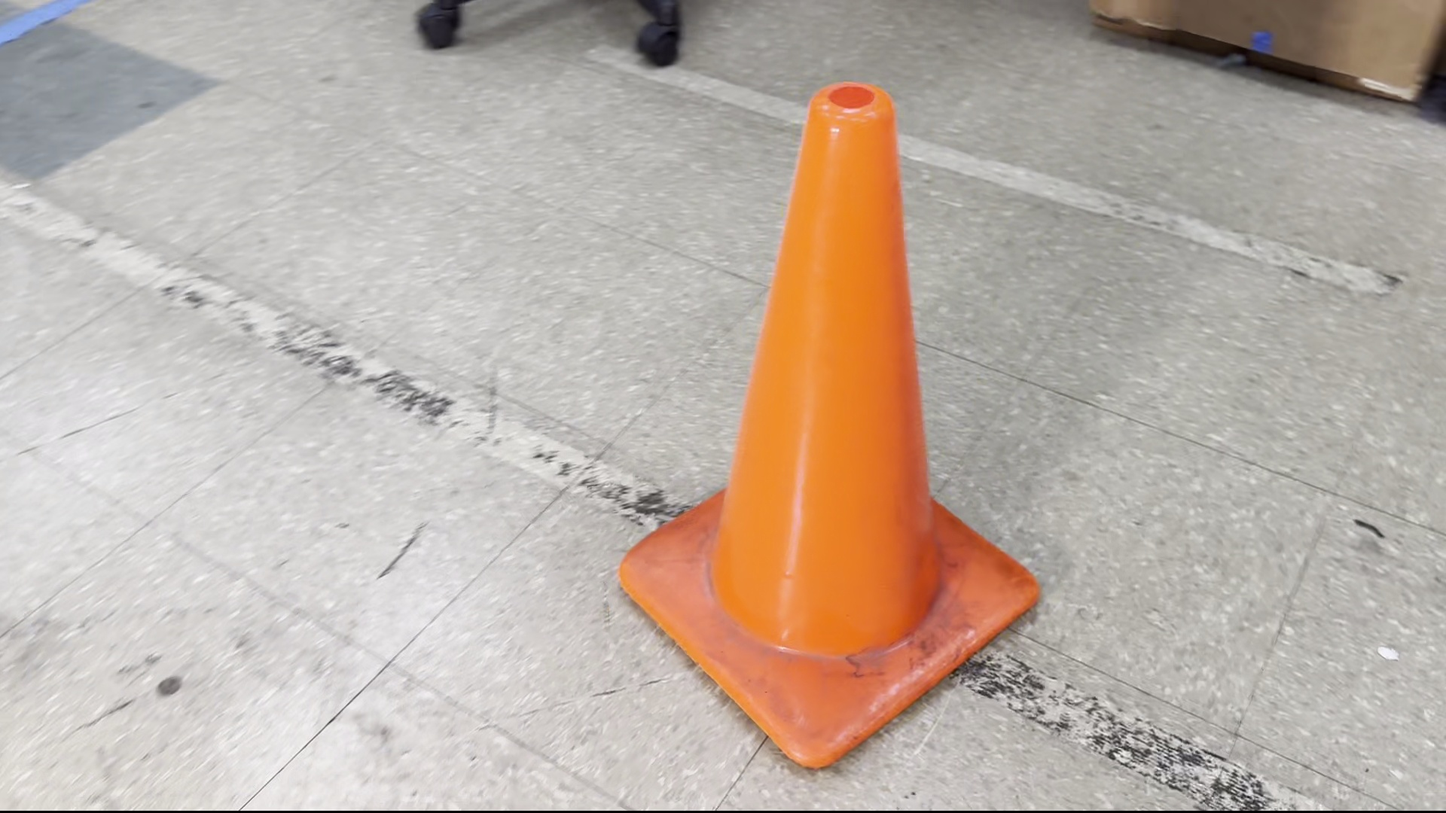traffic_cone: (617, 80, 1041, 771)
